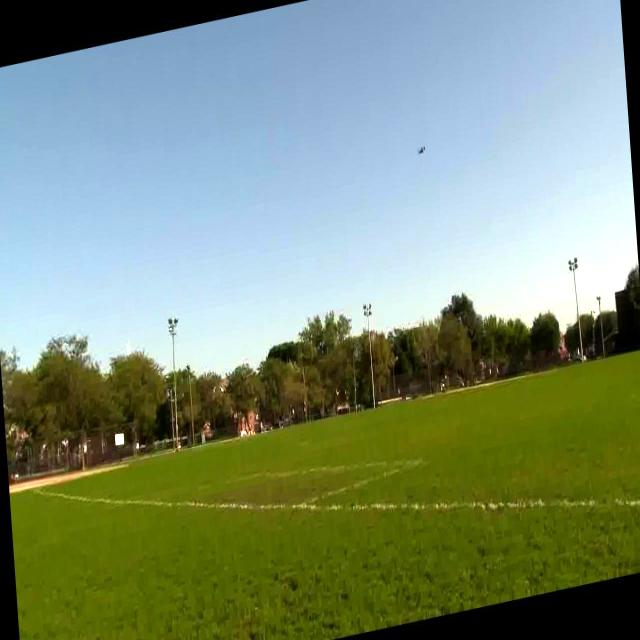drone: (418, 144, 427, 157)
